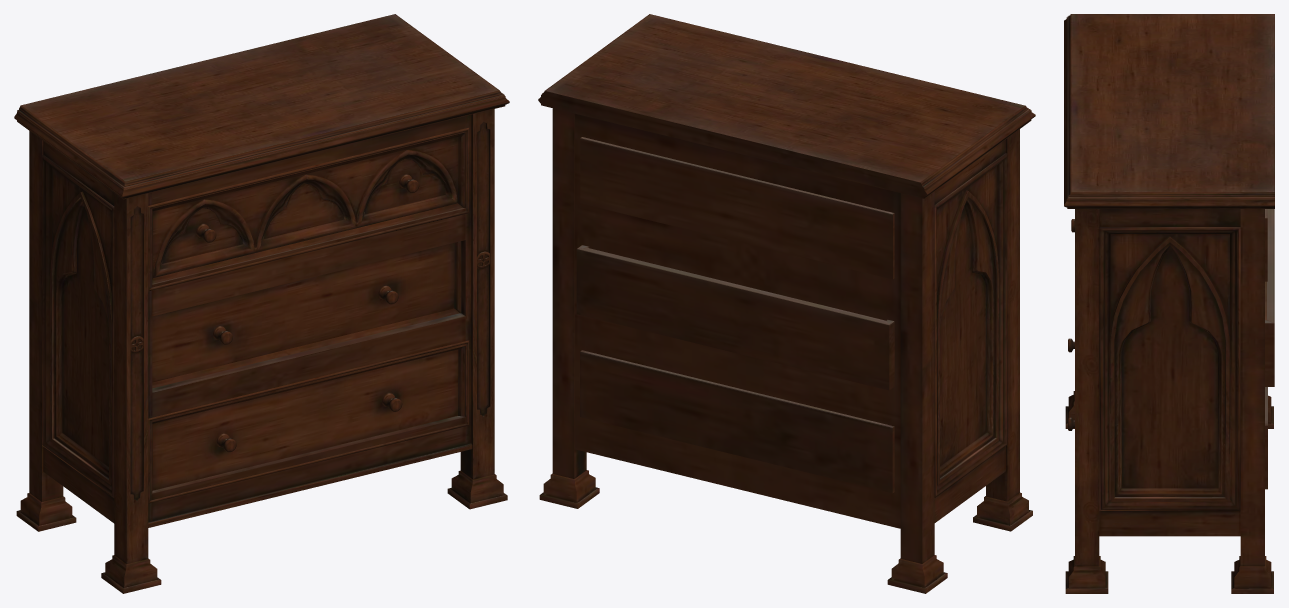
File: ph-GothicCommode_01.glb
3 renders of one model, left to right at view 1: azimuth 30°, elevation 25°; view 2: azimuth 150°, elevation 25°; view 3: azimuth 270°, elevation 25°, orthographic. The views are drawn at different scales.
Visible parts, largest first — view 1: GothicCommode_01; view 2: GothicCommode_01; view 3: GothicCommode_01.
Boxes of the visible parts, bbox=[...] form: GothicCommode_01: bbox=[14, 14, 509, 593]; GothicCommode_01: bbox=[538, 14, 1035, 593]; GothicCommode_01: bbox=[1064, 14, 1274, 593].
Size of the model in its own units: 0.9912 by 1 by 0.479.
Materials: 1 (1 with a texture image).
